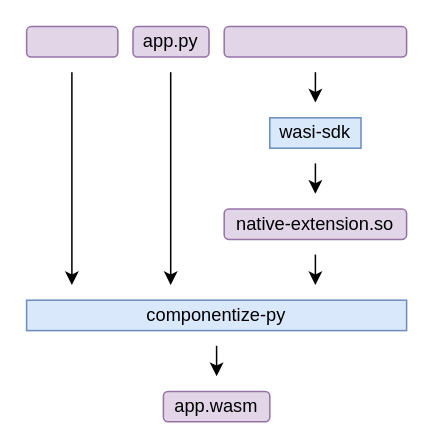
This 433x448 diagram has some shape labels left out. Here are the shapes that lost their labels. From the top down, the centre of each, then its label:
the point at 71,41: world.wit
the point at 315,41: native-extension.c
